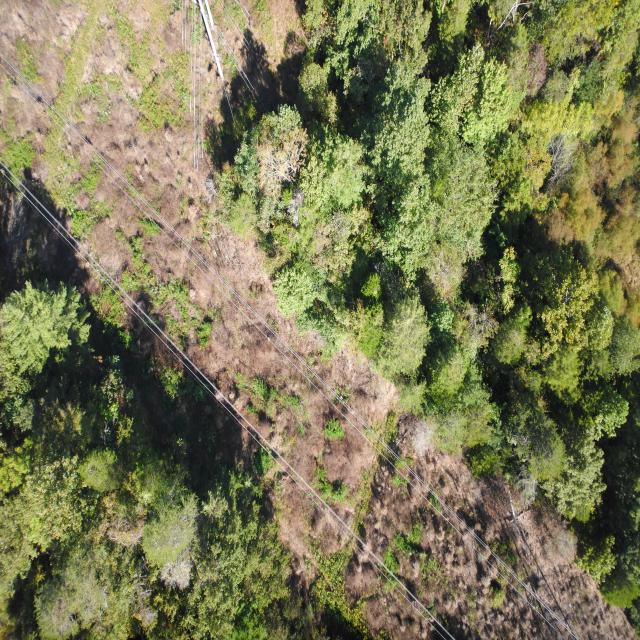Area of Interest: (245, 16, 634, 597), (10, 300, 333, 620)
